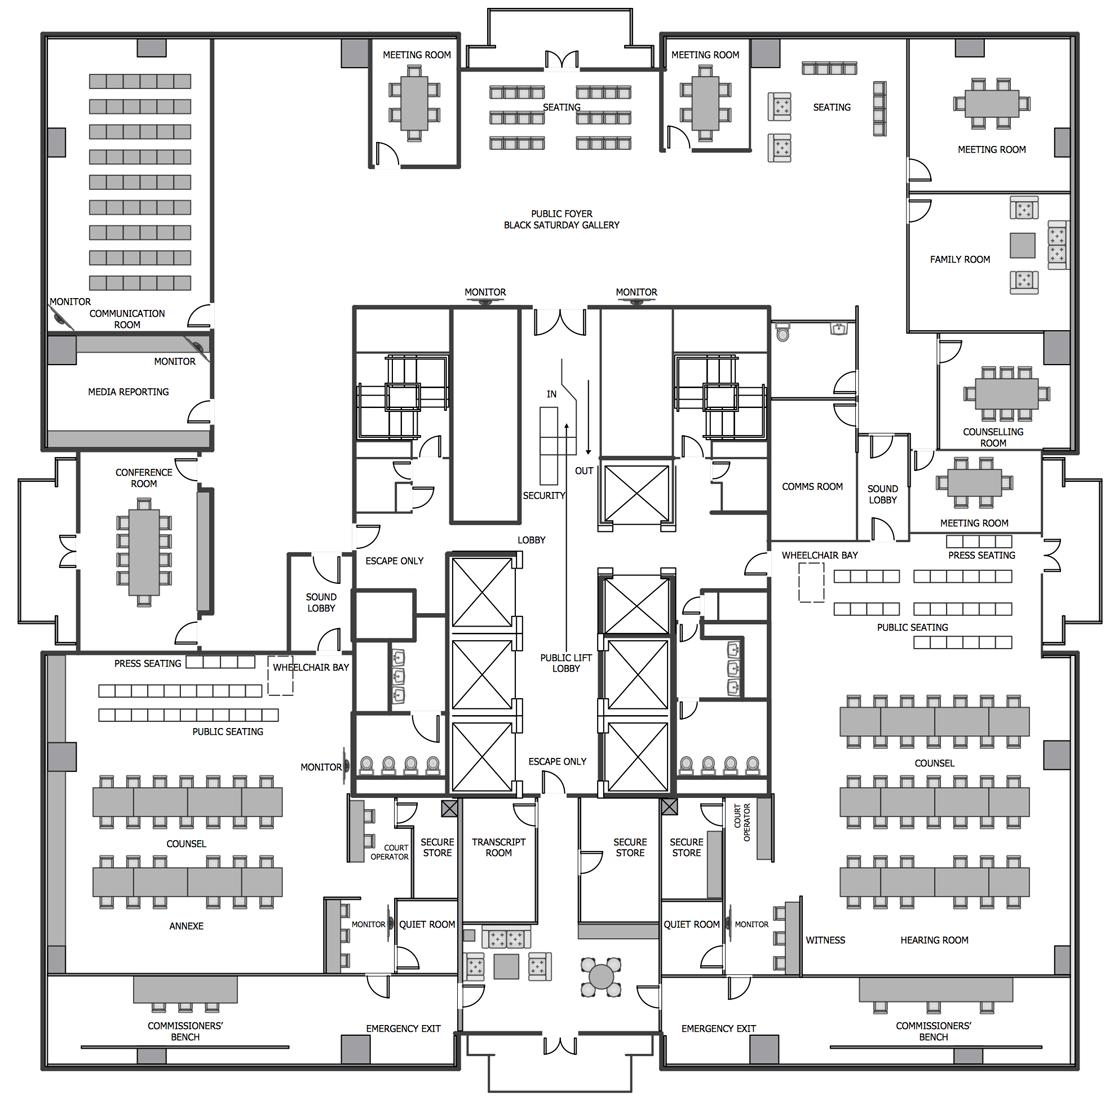room: (772, 541, 1040, 976), (41, 654, 354, 974), (44, 35, 214, 333), (40, 974, 459, 1069), (661, 977, 1075, 1067), (909, 36, 1073, 192), (78, 449, 197, 655), (908, 192, 1074, 331), (461, 924, 660, 1034), (42, 332, 213, 449), (939, 333, 1076, 450), (452, 306, 519, 522), (769, 398, 857, 541), (371, 37, 459, 167), (910, 449, 1043, 534), (600, 305, 674, 458), (579, 794, 660, 923), (663, 35, 750, 151), (460, 795, 536, 923), (674, 699, 769, 778), (770, 319, 857, 399), (660, 796, 724, 900), (288, 553, 354, 653), (354, 712, 447, 779), (390, 613, 448, 713), (858, 434, 910, 541), (659, 900, 725, 977), (412, 795, 460, 901), (398, 899, 459, 974), (354, 590, 414, 640), (721, 459, 769, 512), (702, 590, 771, 622)
